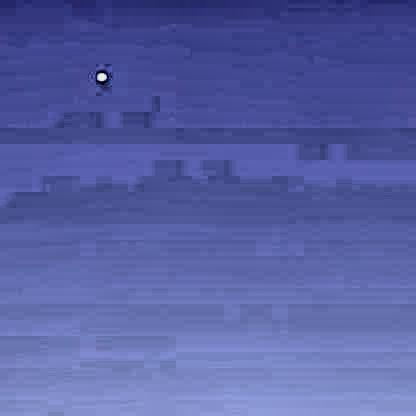golfball: (92, 67, 106, 81)
